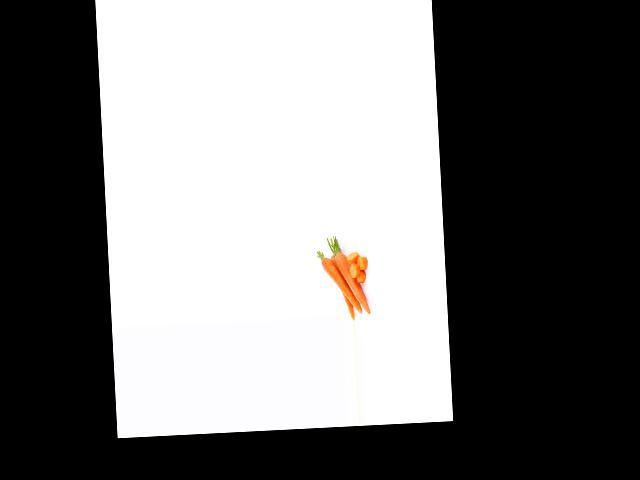carrot: (332, 245, 371, 316)
